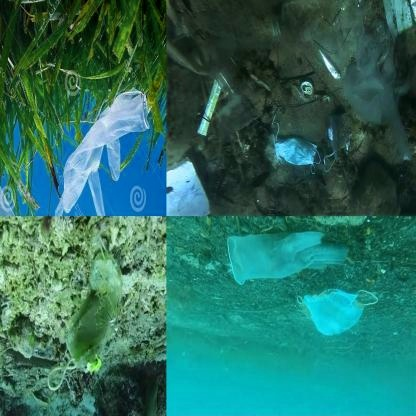Mask: (46, 236, 124, 390), (296, 290, 380, 336), (268, 120, 320, 174)
glove: (55, 88, 153, 216), (226, 231, 349, 286), (0, 77, 41, 216)
